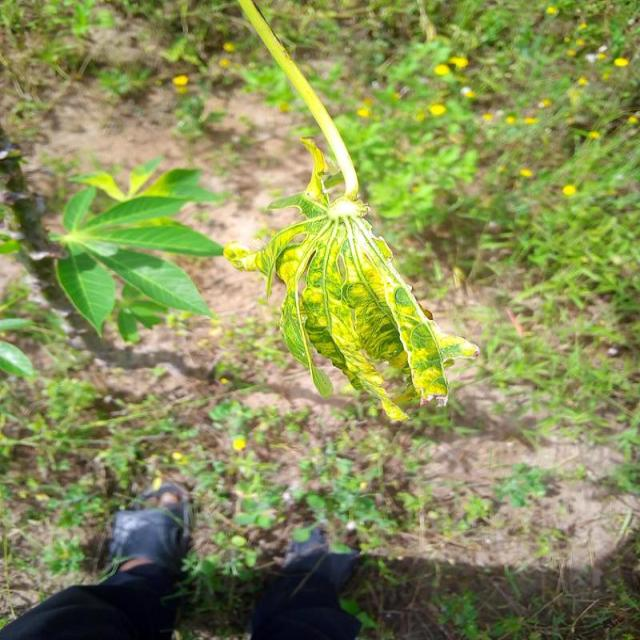cassava leaf: (222, 136, 478, 424), (50, 158, 226, 343)
